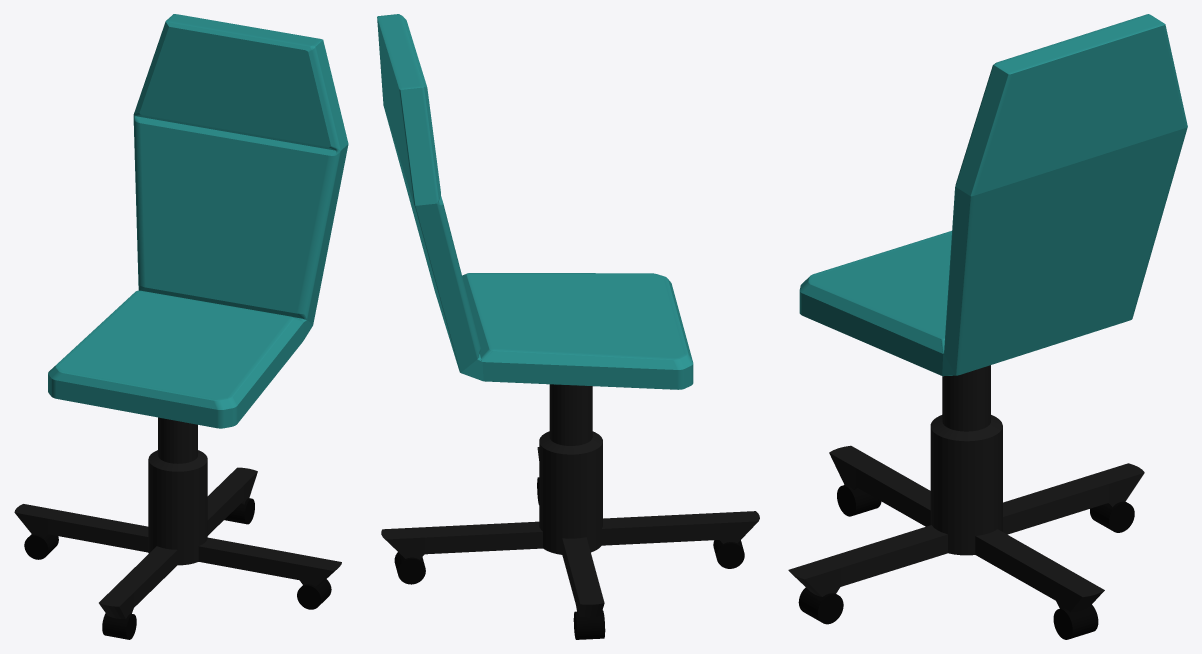
File: Chair.fbx
The picture shows the model from 3 angles, left to right: view 1: azimuth 30°, elevation 25°; view 2: azimuth 150°, elevation 25°; view 3: azimuth 270°, elevation 25°; orthographic projection. The views are drawn at different scales.
Parts seen in each view (by area): view 1: Cube.008, Cylinder.003, Cylinder.006, Cylinder.005, Cylinder.007, Cylinder.004; view 2: Cube.008, Cylinder.003, Cylinder.007, Cylinder.004, Cylinder.006; view 3: Cube.008, Cylinder.003, Cylinder.004, Cylinder.005, Cylinder.007, Cylinder.006.
Boxes of the visible parts, x1,y1,x2,y2 form: Cube.008: (48,14,348,428); Cylinder.003: (14,417,341,618); Cylinder.006: (102,613,136,639); Cylinder.005: (297,579,331,609); Cylinder.007: (24,534,58,559); Cylinder.004: (224,498,254,524); Cube.008: (377,14,693,389); Cylinder.003: (381,384,759,617); Cylinder.007: (573,610,605,639); Cylinder.004: (394,552,425,584); Cylinder.006: (713,540,744,568); Cube.008: (799,14,1187,376); Cylinder.003: (788,365,1144,612); Cylinder.004: (1053,604,1098,639); Cylinder.005: (798,587,843,624); Cylinder.007: (1090,501,1134,532); Cylinder.006: (837,484,881,516).
Bounding box in the file's own units: 57.29 × 89.51 × 54.37.
